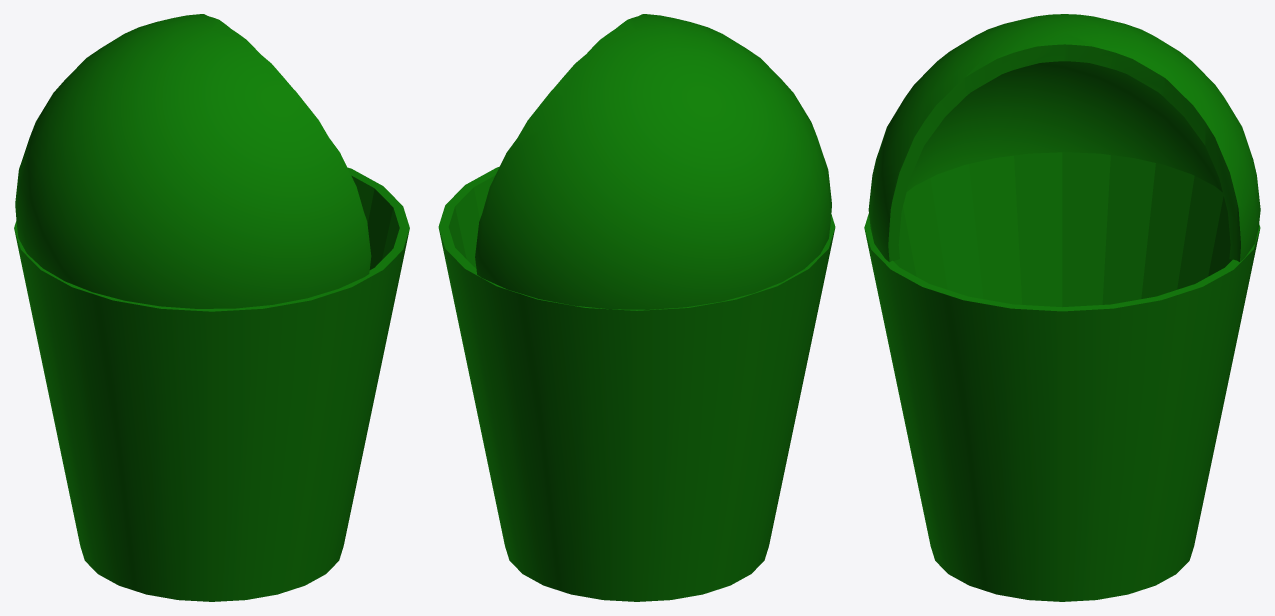
The model's file is TrashBin.FBX.
The picture shows the model from 3 angles, left to right: view 1: azimuth 30°, elevation 25°; view 2: azimuth 150°, elevation 25°; view 3: azimuth 270°, elevation 25°; orthographic projection.
Visible parts, largest first — view 1: Cone001, Sphere001; view 2: Cone001, Sphere001; view 3: Cone001, Sphere001.
Part boxes in pixels (left/top/right/bottom): Cone001: left=14, top=167, right=409, bottom=601; Sphere001: left=15, top=14, right=371, bottom=308; Cone001: left=438, top=166, right=835, bottom=601; Sphere001: left=475, top=14, right=831, bottom=309; Cone001: left=864, top=152, right=1260, bottom=601; Sphere001: left=868, top=14, right=1260, bottom=262.
Bounding box in the file's own units: 33.89 × 48.51 × 33.9.
